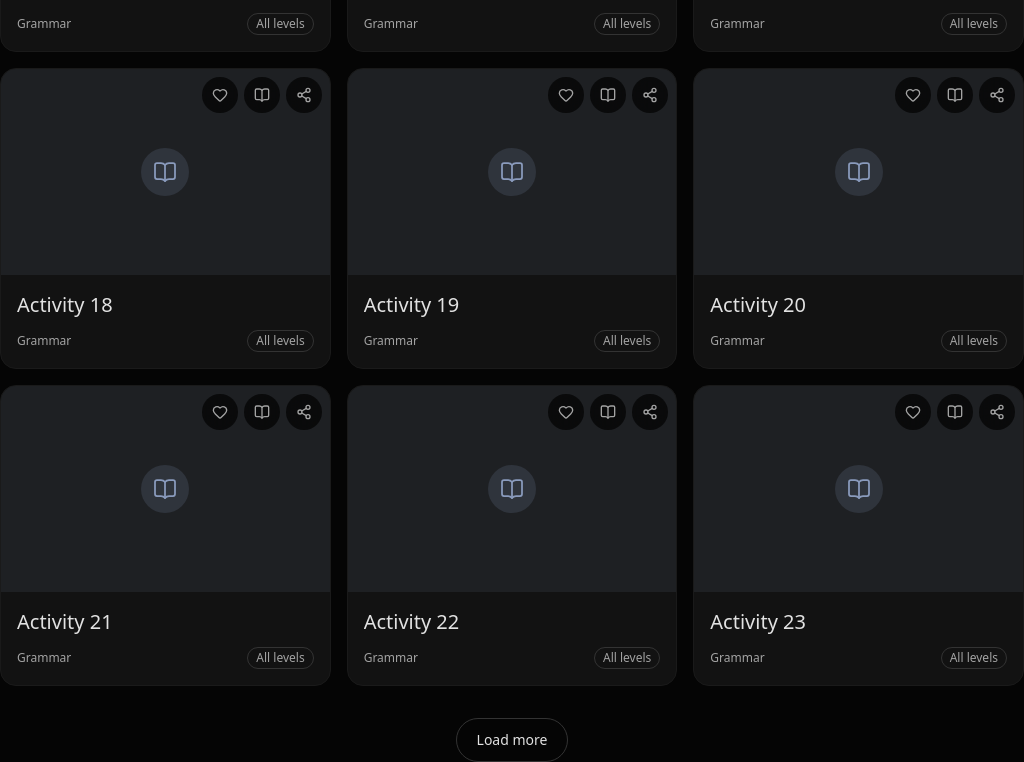
Scenario: ResultsGrid › shows 24 results and appends 24 more on Load more
(page scrolled)
Click the button "Load more". click: (512, 740)
box: [456,718,568,761]
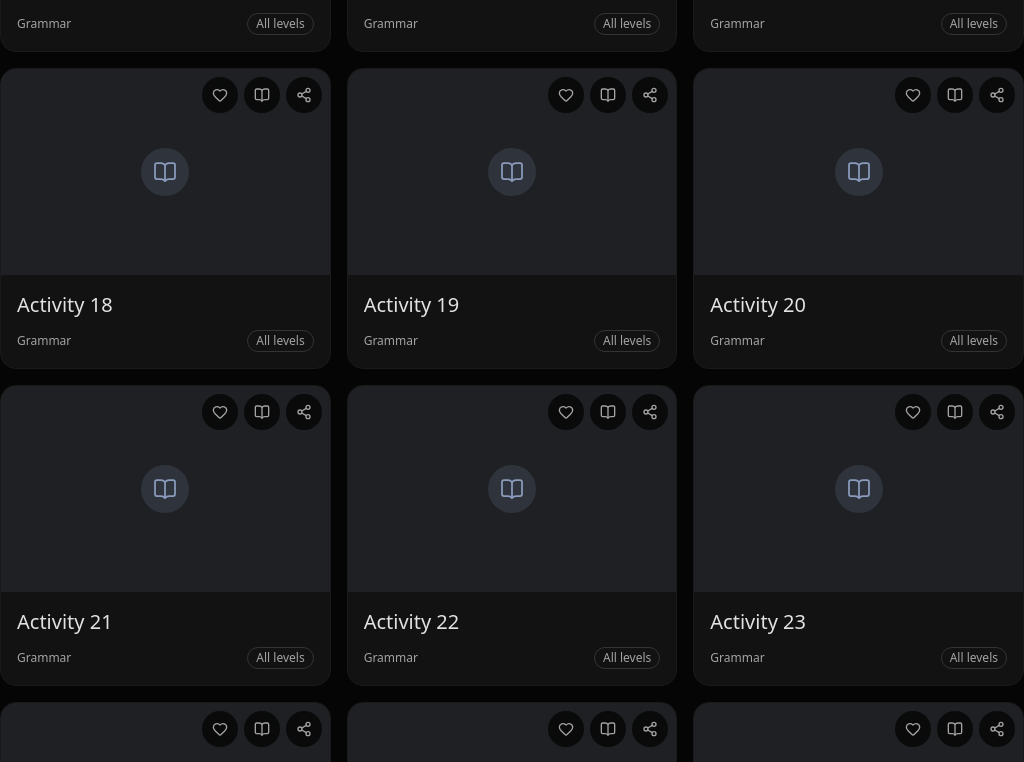
Now the button "Load more" is gone
